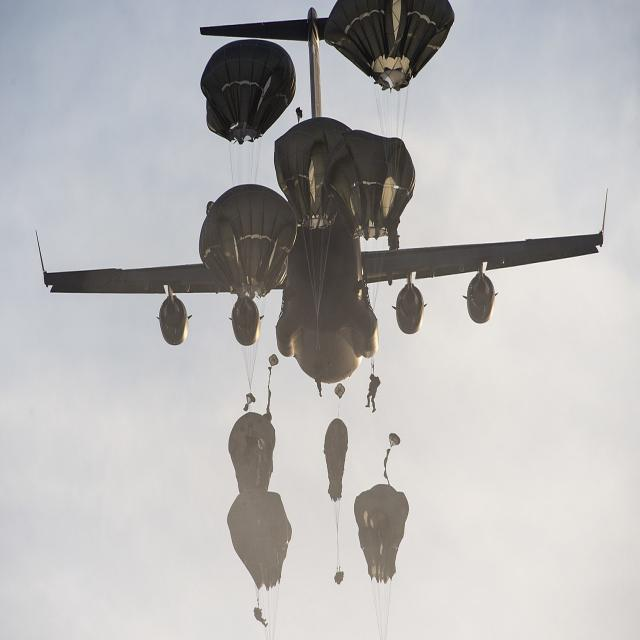MIL_Plane: (34, 6, 608, 383)
